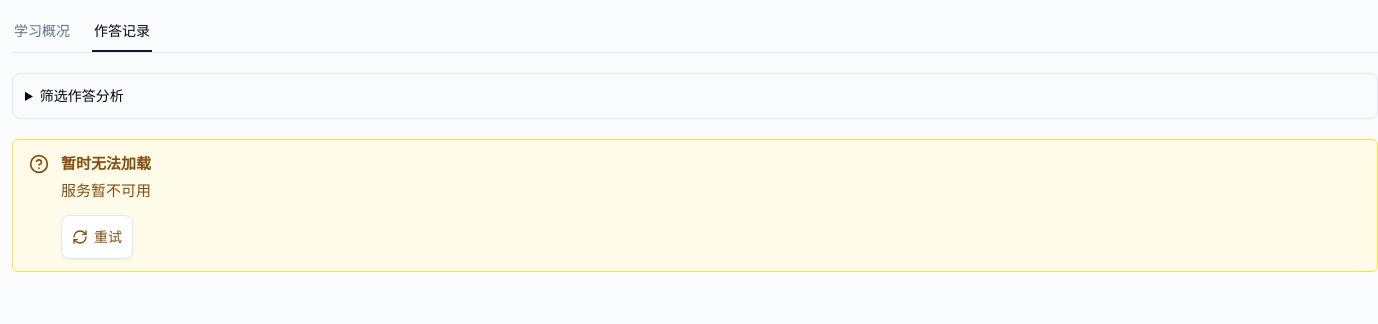
Scenario: EvidenceWorkspace › offers a retry after request failures and displays an empty result without invented data
Expected: the text "服务暂不可用" is shown, [61,181,151,200]
Click the button "重试": (97, 236) [61,214,133,258]
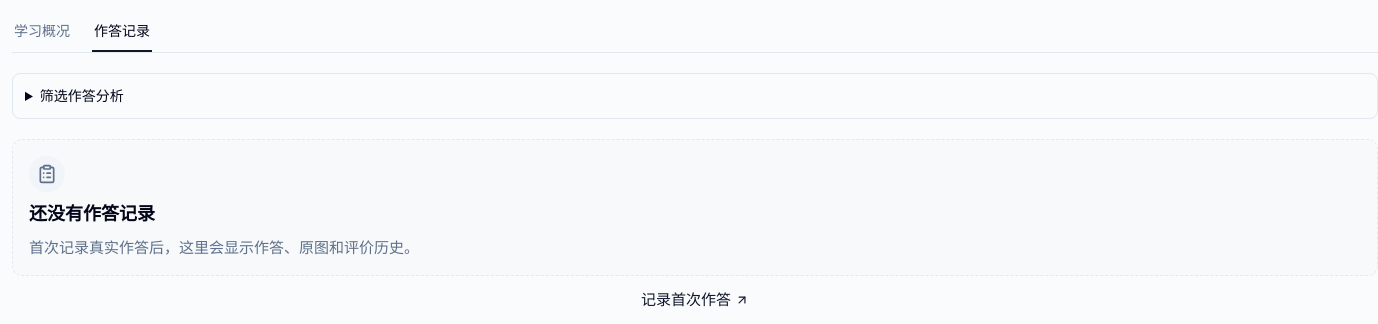
Expected: the heading "还没有作答记录" is shown, [29,200,155,228]
